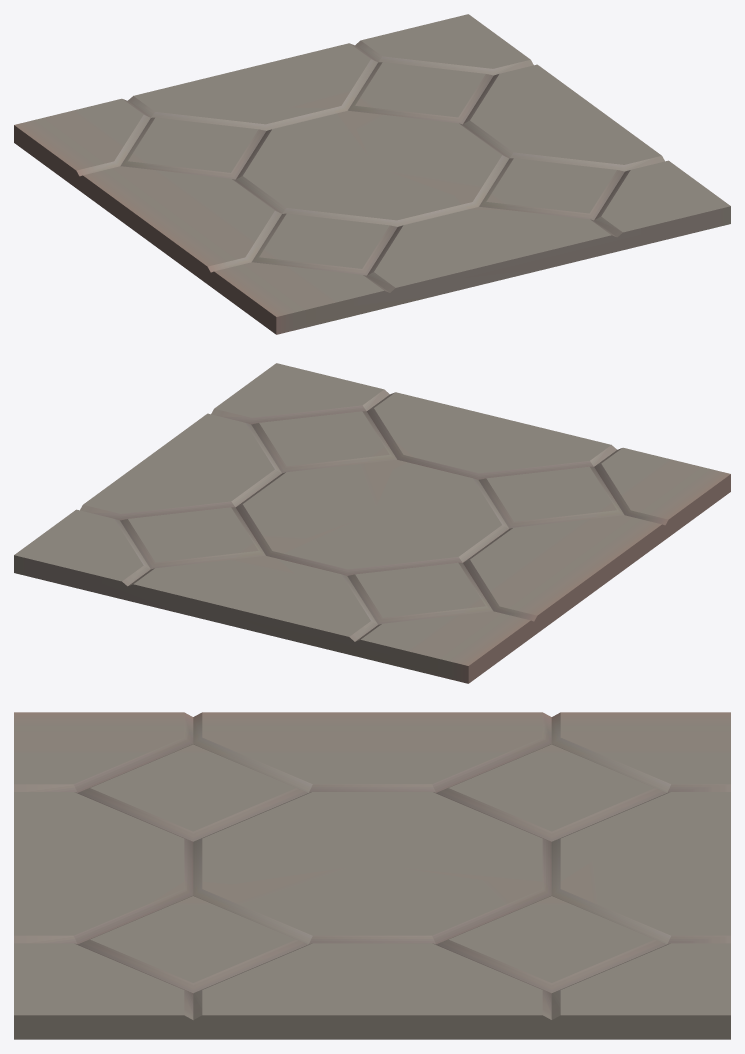
Rendered from floor_tile_large.glb.
The picture shows the model from 3 angles, top to bottom: view 1: azimuth 30°, elevation 25°; view 2: azimuth 150°, elevation 25°; view 3: azimuth 270°, elevation 25°; orthographic projection. The views are drawn at different scales.
Parts seen in each view (by area): view 1: floor_tile_large; view 2: floor_tile_large; view 3: floor_tile_large.
Part boxes in pixels (<box>): floor_tile_large: <box>14,14,730,334</box>; floor_tile_large: <box>14,363,730,683</box>; floor_tile_large: <box>14,712,730,1039</box>.
Bounding box in the file's own units: 4 × 0.1499 × 4.
1 material, 1 textured.
